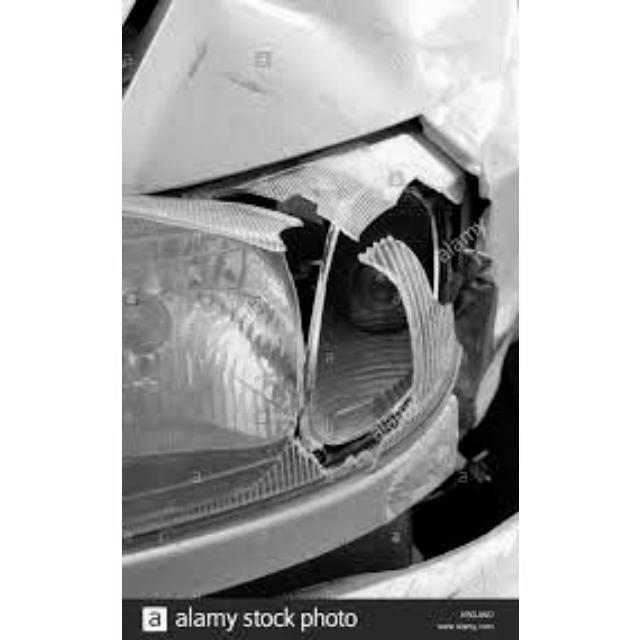Headlight-damage: (155, 90, 503, 521)
